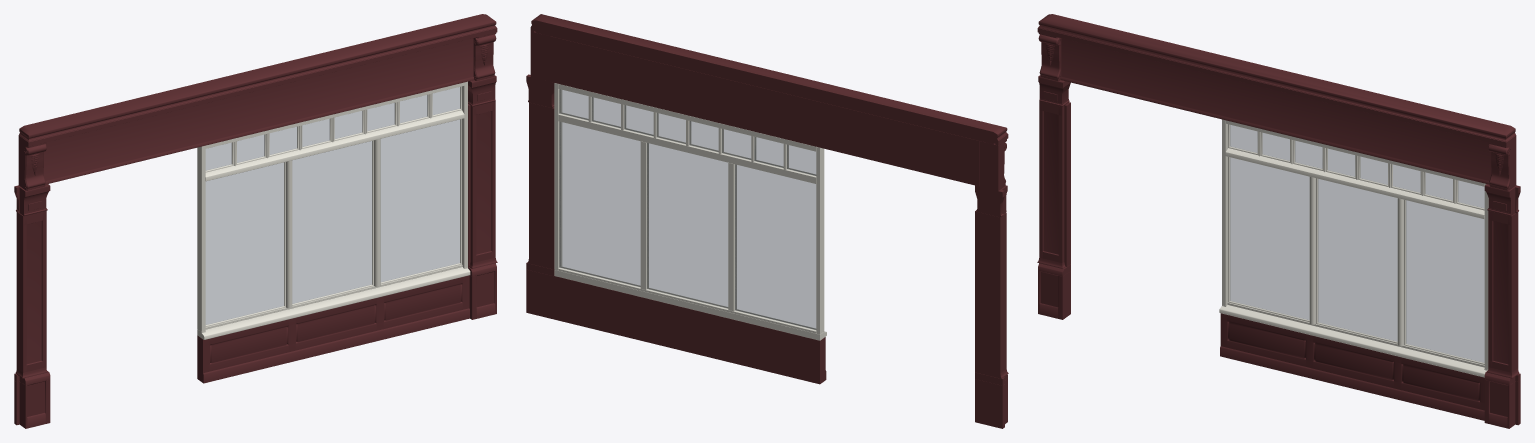
File: shopfront_ritas.glb
The picture shows the model from 3 angles, left to right: view 1: azimuth 30°, elevation 25°; view 2: azimuth 150°, elevation 25°; view 3: azimuth 330°, elevation 25°; orthographic projection.
Parts seen in each view (by area): view 1: fas_board, sta_panel, win_glass_lower_1, win_glass_lower_2, win_glass_lower_0, cor_cornice, pilL_shaft, pilR_shaft, sil_sill, win_transom, win_jamb_l, pilL_plinth_body (+23 smaller); view 2: fas_board, sta_panel, win_glass_lower_2, win_glass_lower_0, win_glass_lower_1, cor_cornice, pilL_core, pilR_core, win_transom, sil_sill, win_jamb_l, win_head (+21 smaller); view 3: fas_board, sta_panel, win_glass_lower_1, win_glass_lower_0, win_glass_lower_2, cor_cornice, pilR_shaft, pilL_shaft, sil_sill, win_transom, pilR_plinth_body, pilL_plinth_body (+23 smaller).
Boxes of the visible parts, x1,y1,x2,y2 form: fas_board: (43,38,474,184); sta_panel: (197,275,469,383); win_glass_lower_1: (292,141,371,303); win_glass_lower_2: (381,119,459,281); win_glass_lower_0: (206,162,283,324); cor_cornice: (18,14,497,146); pilL_shaft: (21,211,46,372); pilR_shaft: (470,101,495,262); sil_sill: (197,267,470,339); win_transom: (205,109,464,181); win_jamb_l: (197,145,205,331); pilL_plinth_body: (14,380,50,428); fas_board: (550,36,979,186); sta_panel: (554,276,826,384); win_glass_lower_2: (559,122,640,286); win_glass_lower_0: (735,164,815,329); win_glass_lower_1: (647,143,727,308); cor_cornice: (530,14,1008,145); pilL_core: (975,210,1004,378); pilR_core: (529,102,554,269); win_transom: (558,113,816,183); sil_sill: (554,270,826,340); win_jamb_l: (816,147,824,334); win_head: (558,84,816,151); fas_board: (1060,38,1491,184); sta_panel: (1220,313,1484,420); win_glass_lower_1: (1318,179,1397,341); win_glass_lower_0: (1230,157,1309,319); win_glass_lower_2: (1406,200,1484,362); cor_cornice: (1037,14,1516,146); pilR_shaft: (1488,211,1513,372); pilL_shaft: (1039,101,1064,262); sil_sill: (1219,305,1487,377); win_transom: (1225,146,1484,219); pilR_plinth_body: (1484,380,1520,428); pilL_plinth_body: (1038,270,1070,319).
Bounding box in the file's own units: 6 × 3.55 × 0.215.
